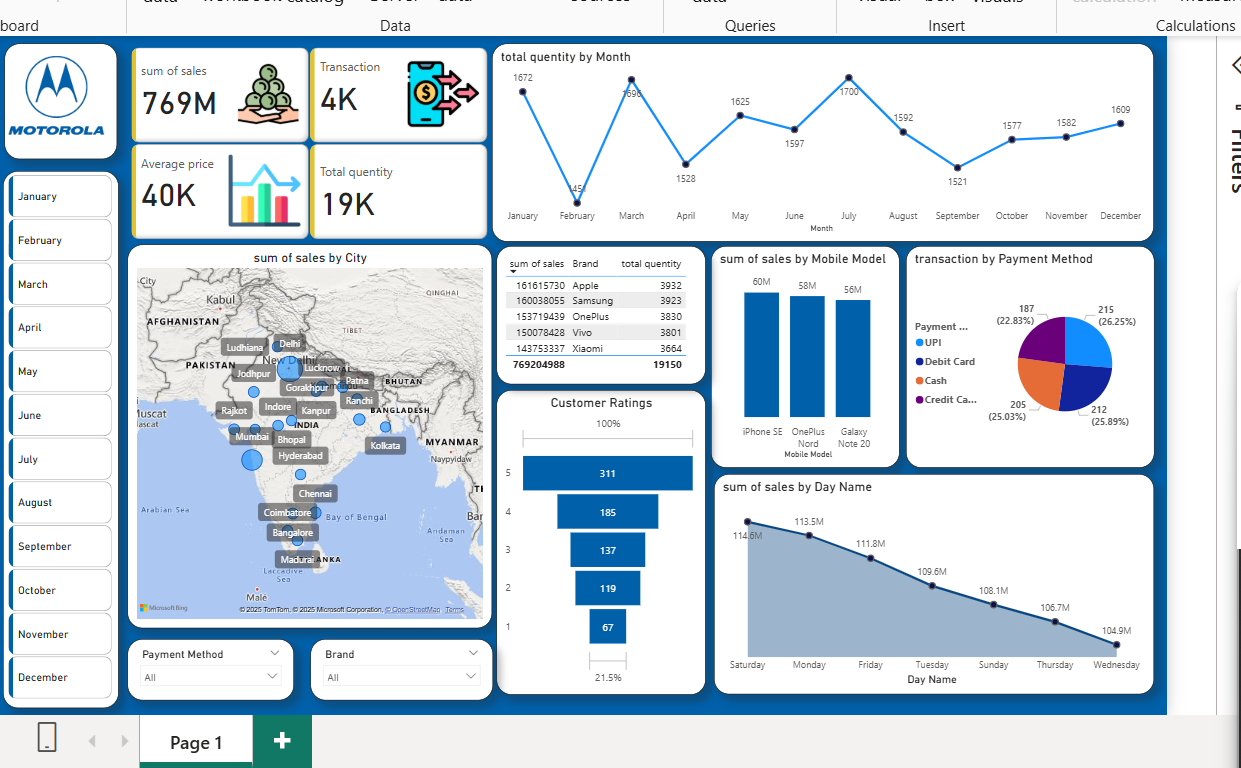

Layout of this report page (visuals, bound fields, positions):
{"tool":"powerbi","page":{"name":"Page 1","canvas":[1550,900],"ordinal":0},"visuals":[{"type":"shape","box":[9.9,9.9,149.1,153.1],"z":0},{"type":"image","box":[0,9.9,157.1,137.2],"z":1000},{"type":"shape","box":[8,178.9,153.1,711.8],"z":2000},{"type":"advancedSlicerVisual","fields":{"Values":["Sales data.Date.Variation.Date Hierarchy.Month"]},"box":[9.9,178.9,147.1,711.8],"z":3000},{"type":"cardVisual","fields":{"Data":["Sales data.sum of sales","Sales data.transaction","Sales data.Average price","Sales data.total quentity"]},"box":[173,9.9,483.1,264.4],"z":4000},{"type":"map","fields":{"Category":["Sales data.City"],"Size":["Sales data.sum of sales"]},"box":[172.9,277.1,483.3,508.3],"z":5000},{"type":"lineChart","fields":{"Y":["Sales data.total quentity"],"Category":["Sales data.Date.Variation.Date Hierarchy.Month","Sales data.Date.Variation.Date Hierarchy.Day"]},"box":[656.2,10.4,877.1,262.5],"z":6000},{"type":"clusteredColumnChart","fields":{"Y":["Sales data.sum of sales"],"Category":["Sales data.Mobile Model"]},"box":[945.8,279.2,250,293.8],"z":7000},{"type":"pieChart","fields":{"Y":["Sales data.transaction"],"Category":["Sales data.Payment Method"]},"box":[1204.2,279.2,329.2,293.8],"z":8000},{"type":"funnel","title":"Customer Ratings ","fields":{"Category":["Sales data.Customer Ratings"],"Y":["CountNonNull(Sales data.Customer Ratings)"]},"box":[662.5,468.8,277.1,404.2],"z":9000},{"type":"areaChart","fields":{"Y":["Sales data.sum of sales"],"Category":["Sales data.Day Name"]},"box":[950,581.2,583.3,291.7],"z":10000},{"type":"tableEx","fields":{"Values":["Sales data.sum of sales","Sales data.Brand","Sales data.total quentity"]},"box":[662.5,279.2,277.1,183.3],"z":11000},{"type":"slicer","fields":{"Values":["Sales data.Payment Method"]},"box":[172.9,800,220.8,81.2],"z":12000},{"type":"slicer","fields":{"Values":["Sales data.Brand"]},"box":[414.6,800,241.7,81.2],"z":13000}]}

Visuals, with their boxes in screenshot pixels (x1, y1, x2, y2):
shape: {"left": 1, "top": 37, "right": 115, "bottom": 153}
image: {"left": 0, "top": 37, "right": 113, "bottom": 141}
shape: {"left": 0, "top": 165, "right": 116, "bottom": 707}
advancedSlicerVisual - Sales data.Date.Variation.Date Hierarchy.Month: {"left": 1, "top": 165, "right": 113, "bottom": 707}
cardVisual - Sales data.sum of sales x Sales data.transaction: {"left": 125, "top": 37, "right": 493, "bottom": 238}
map - Sales data.City x Sales data.sum of sales: {"left": 125, "top": 240, "right": 493, "bottom": 627}
lineChart - Sales data.total quentity x Sales data.Date.Variation.Date Hierarchy.Month: {"left": 493, "top": 37, "right": 1161, "bottom": 237}
clusteredColumnChart - Sales data.sum of sales x Sales data.Mobile Model: {"left": 714, "top": 242, "right": 904, "bottom": 465}
pieChart - Sales data.transaction x Sales data.Payment Method: {"left": 911, "top": 242, "right": 1161, "bottom": 465}
"Customer Ratings " funnel: {"left": 498, "top": 386, "right": 709, "bottom": 694}
areaChart - Sales data.sum of sales x Sales data.Day Name: {"left": 717, "top": 472, "right": 1161, "bottom": 694}
tableEx - Sales data.sum of sales x Sales data.Brand: {"left": 498, "top": 242, "right": 709, "bottom": 381}
slicer - Sales data.Payment Method: {"left": 125, "top": 638, "right": 293, "bottom": 700}
slicer - Sales data.Brand: {"left": 309, "top": 638, "right": 493, "bottom": 700}
